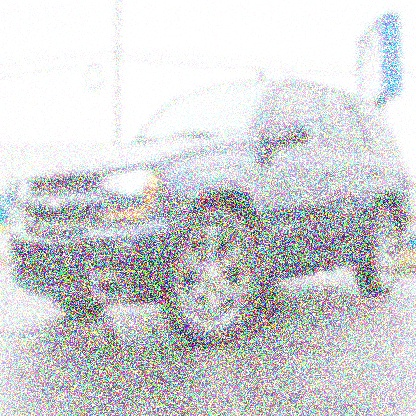Vehicle: (8, 77, 415, 353)
